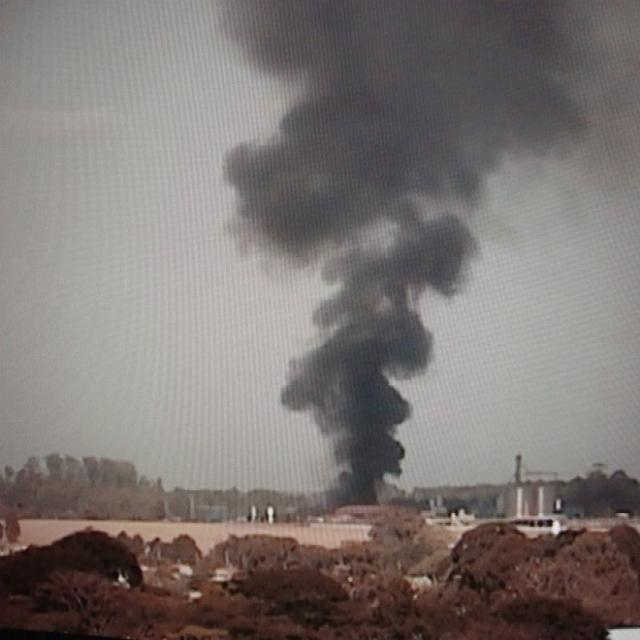Smoke: (199, 9, 619, 501)
